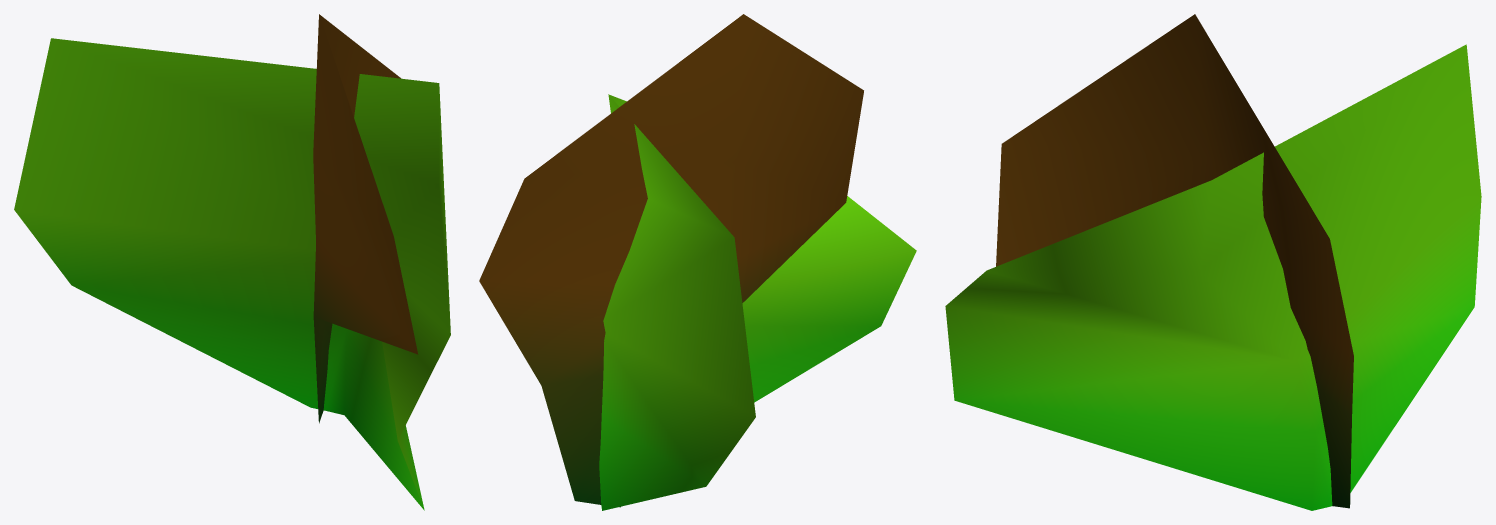
The model's file is Var1Hi19.fbx.
3 views of the same model, side by side, from view 1: azimuth 30°, elevation 25°; view 2: azimuth 150°, elevation 25°; view 3: azimuth 270°, elevation 25° (orthographic). The views are drawn at different scales.
Parts seen in each view (by area): view 1: bend1; view 2: bend1; view 3: bend1.
Boxes of the visible parts, bbox=[...] form: bend1: bbox=[14, 14, 450, 510]; bend1: bbox=[479, 14, 916, 510]; bend1: bbox=[945, 14, 1481, 510].
Bounding box in the file's own units: 1.04 × 1.35 × 1.42.
